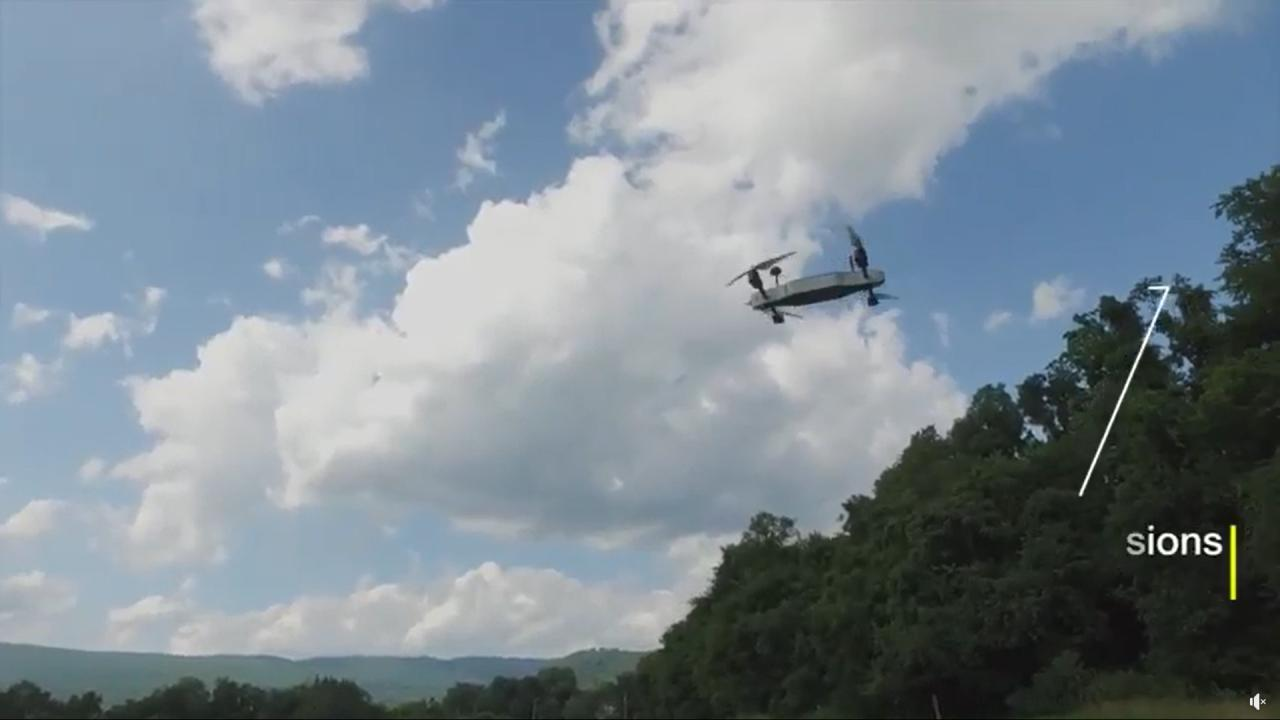Drone: (714, 215, 916, 339)
